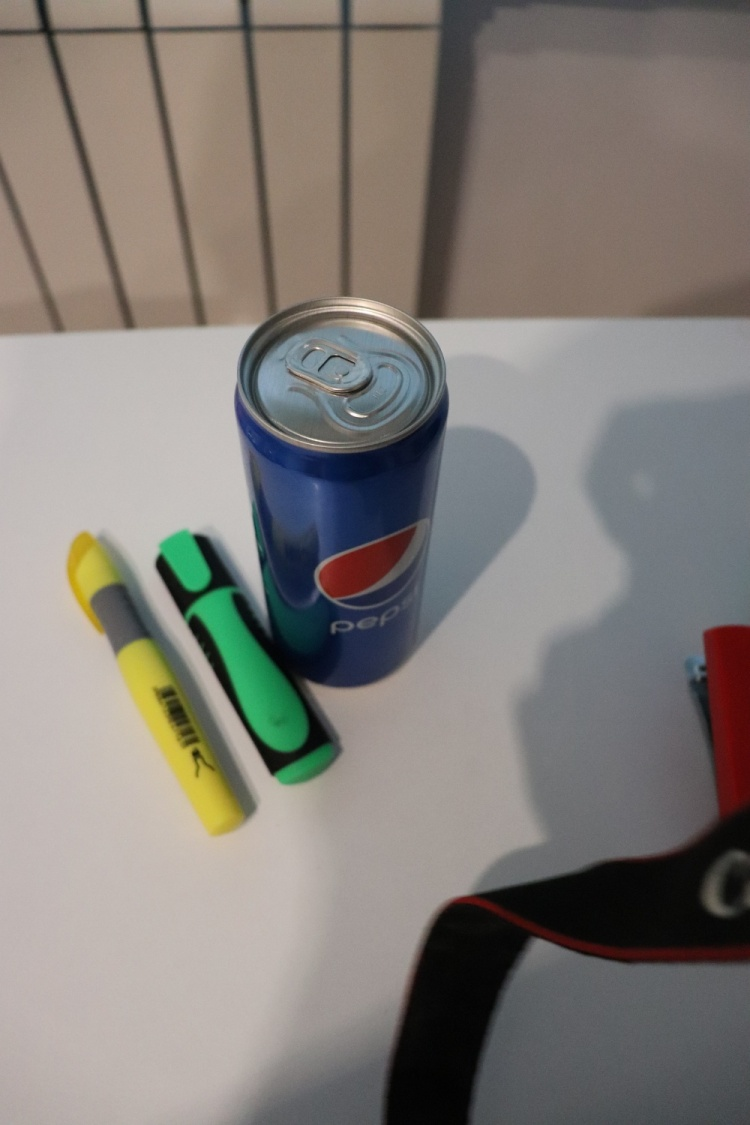pepsi: (229, 297, 453, 695)
